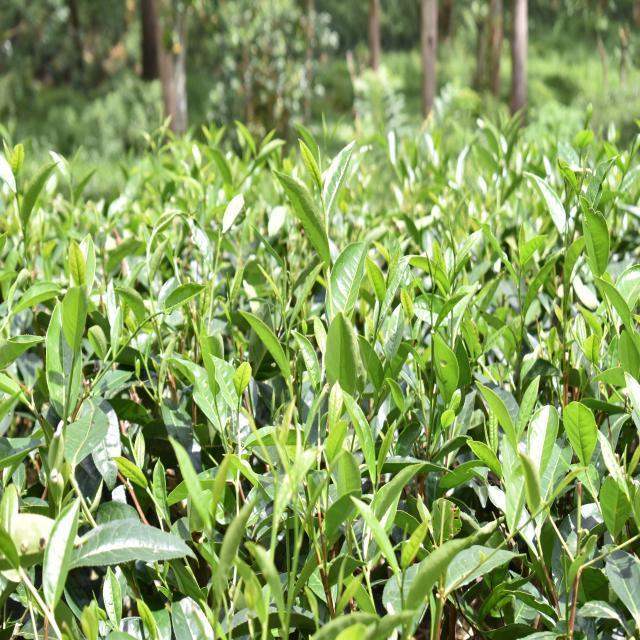Stem: (326, 266, 331, 286), (210, 535, 214, 553), (518, 288, 522, 304), (378, 304, 382, 318), (69, 186, 73, 199)
